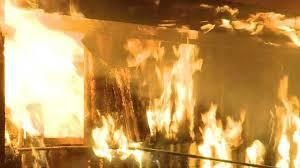fire: (2, 4, 91, 141), (195, 101, 243, 165), (91, 113, 144, 163)
